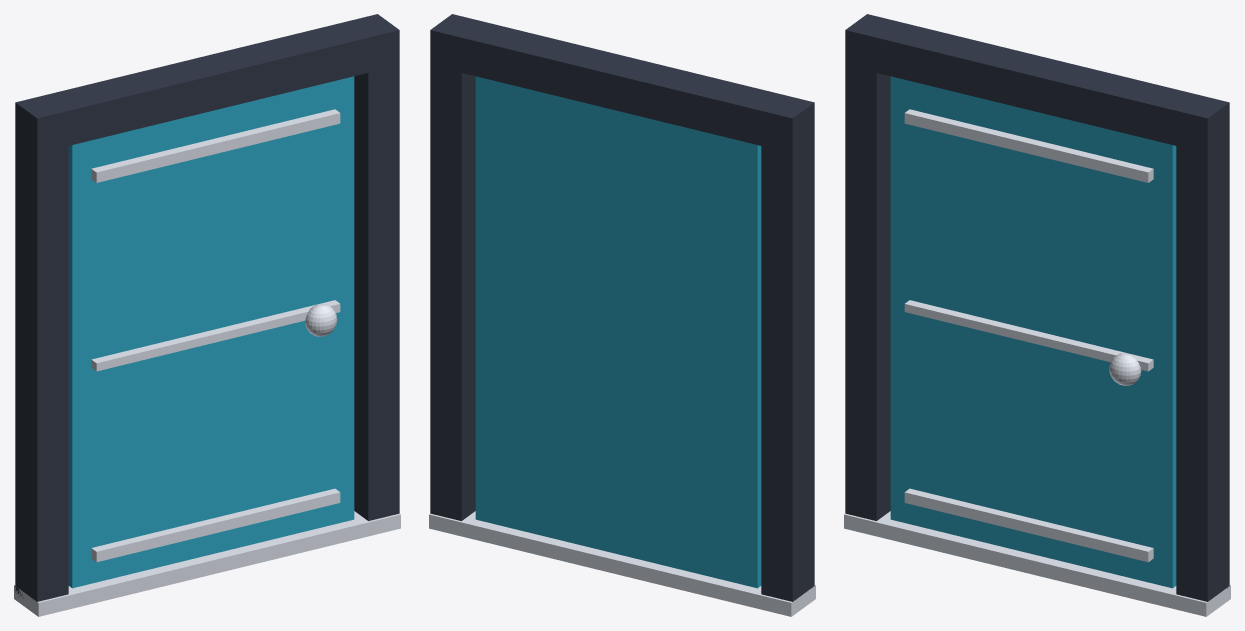
File: studio-guide-gltf-door.glb
3 views of the same model, side by side, from view 1: azimuth 30°, elevation 25°; view 2: azimuth 150°, elevation 25°; view 3: azimuth 330°, elevation 25° (orthographic).
Parts seen in each view (by area): view 1: GLTF_DoorPanel, GLTF_FrameLeft, GLTF_FrameHeader, GLTF_FrameRight, GLTF_Threshold, GLTF_BottomTrim, GLTF_TopTrim, GLTF_CenterTrim, GLTF_DoorHandle; view 2: GLTF_DoorPanel, GLTF_FrameLeft, GLTF_FrameHeader, GLTF_FrameRight, GLTF_Threshold; view 3: GLTF_DoorPanel, GLTF_FrameRight, GLTF_FrameHeader, GLTF_FrameLeft, GLTF_Threshold, GLTF_BottomTrim, GLTF_TopTrim, GLTF_CenterTrim, GLTF_DoorHandle.
Boxes of the visible parts, x1,y1,x2,y2 form: GLTF_DoorPanel: (68,76,354,588); GLTF_FrameLeft: (15,104,68,601); GLTF_FrameHeader: (15,14,399,153); GLTF_FrameRight: (354,34,399,520); GLTF_Threshold: (14,511,400,616); GLTF_BottomTrim: (91,488,340,562); GLTF_TopTrim: (91,109,340,182); GLTF_CenterTrim: (91,300,340,371); GLTF_DoorHandle: (305,304,337,336); GLTF_DoorPanel: (475,76,761,588); GLTF_FrameLeft: (761,104,814,601); GLTF_FrameHeader: (430,14,814,153); GLTF_FrameRight: (430,31,475,520); GLTF_Threshold: (429,511,815,616); GLTF_DoorPanel: (890,76,1176,588); GLTF_FrameRight: (1176,104,1229,601); GLTF_FrameHeader: (845,14,1229,153); GLTF_FrameLeft: (845,33,890,520); GLTF_Threshold: (844,511,1230,616); GLTF_BottomTrim: (904,488,1153,562); GLTF_TopTrim: (904,109,1153,182); GLTF_CenterTrim: (904,300,1153,371); GLTF_DoorHandle: (1109,353,1141,385).
Bounding box in the file's own units: 3.24 × 4.25 × 0.5.
